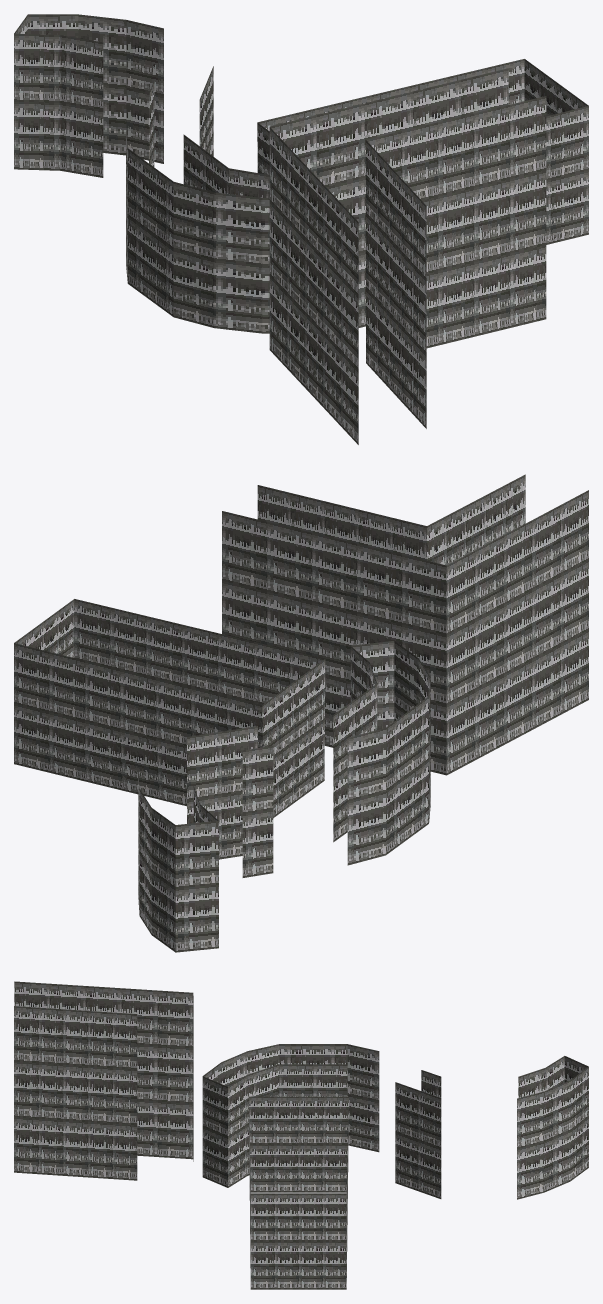
File: lodelights_dy.obj
3 views of the same model, one above another, from view 1: azimuth 30°, elevation 25°; view 2: azimuth 150°, elevation 25°; view 3: azimuth 270°, elevation 25° (orthographic). The views are drawn at different scales.
Parts seen in each view (by area): view 1: lodElights_dy; view 2: lodElights_dy; view 3: lodElights_dy.
Boxes of the visible parts, x1,y1,x2,y2 form: lodElights_dy: (14,14,588,444); lodElights_dy: (14,474,588,952); lodElights_dy: (14,981,588,1289).
Bounding box in the file's own units: 88.7 × 47.78 × 149.
1 material, 1 textured.
